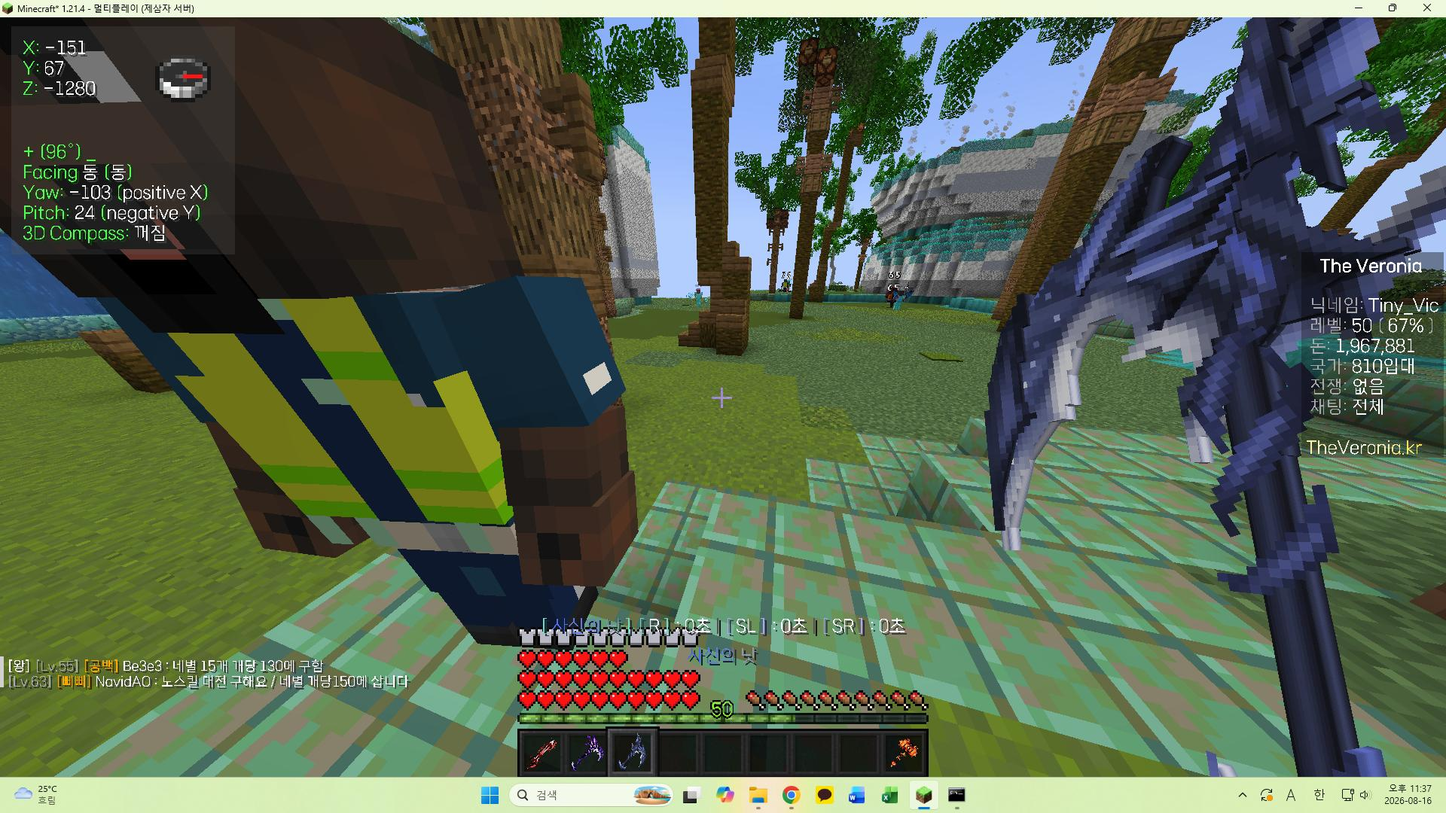Guardian: (39, 26, 636, 644)
